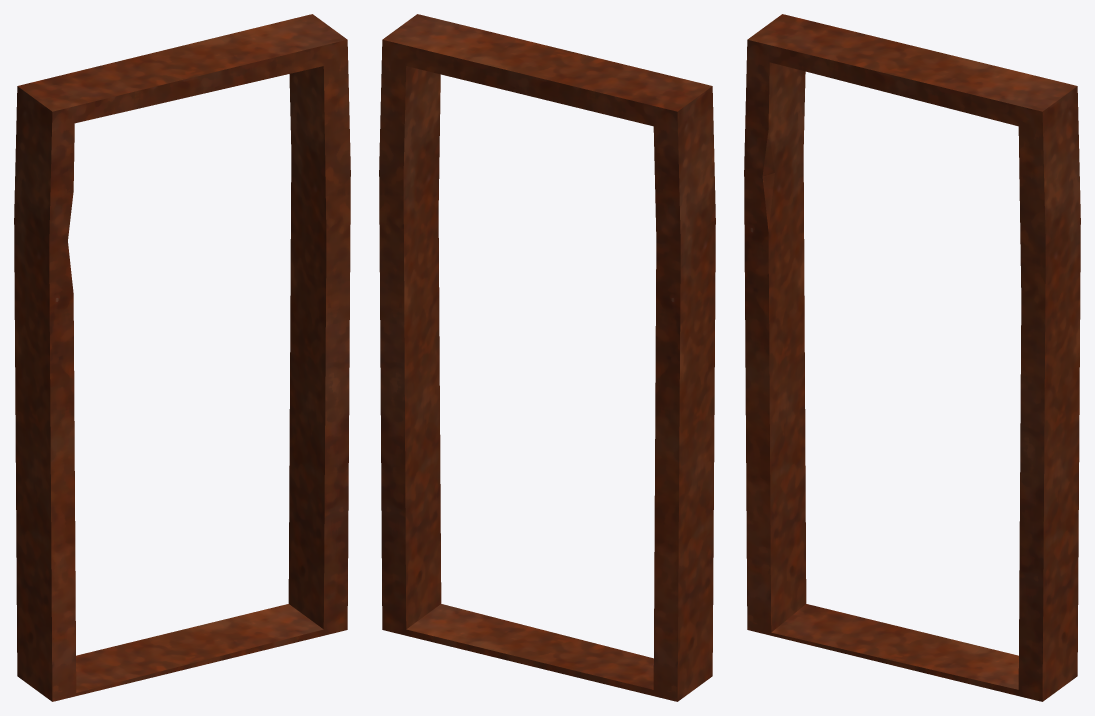
The model's file is DoorFrame.fbx.
The picture shows the model from 3 angles, left to right: view 1: azimuth 30°, elevation 25°; view 2: azimuth 150°, elevation 25°; view 3: azimuth 330°, elevation 25°; orthographic projection.
Parts seen in each view (by area): view 1: DoorFrame; view 2: DoorFrame; view 3: DoorFrame.
Part boxes in pixels (box(x1,y1,x2,y2)): DoorFrame: box(14, 14, 350, 701); DoorFrame: box(379, 14, 715, 701); DoorFrame: box(744, 14, 1080, 701).
Size of the model in its own units: 125 by 234 by 25.3.
